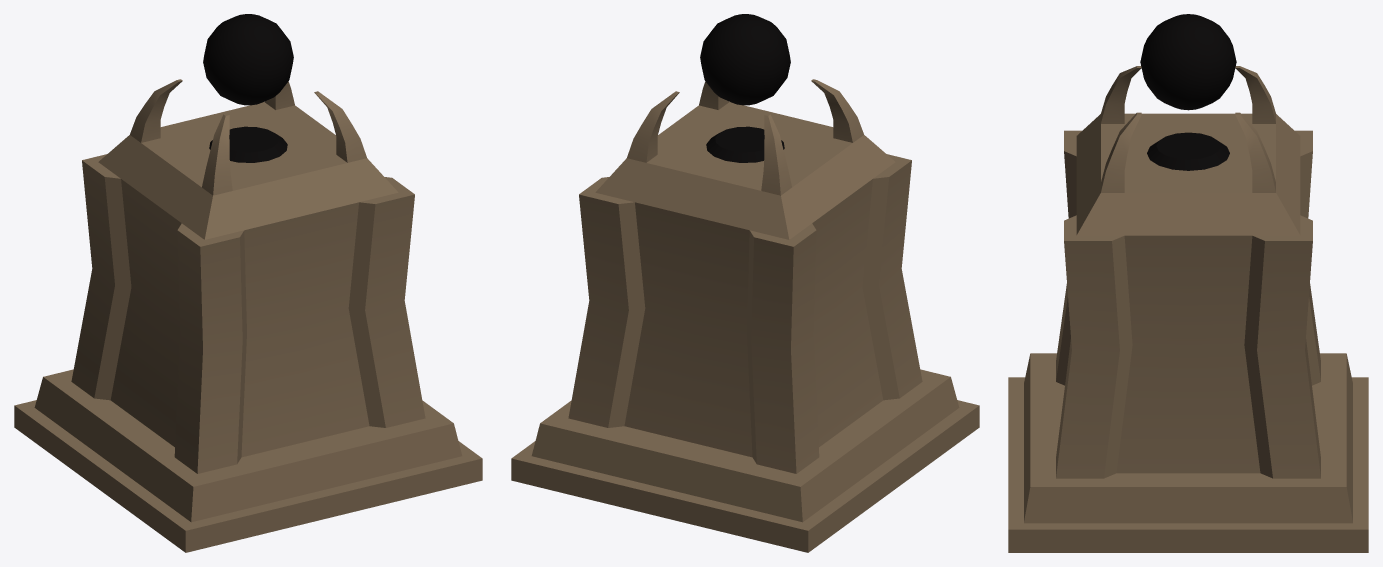
File: energy_source.FBX
3 renders of one model, left to right at view 1: azimuth 30°, elevation 25°; view 2: azimuth 150°, elevation 25°; view 3: azimuth 270°, elevation 25°, orthographic. The views are drawn at different scales.
Parts seen in each view (by area): view 1: energy_source_pedestal, energy_source_base, energy_source_sphere, energy_source_prongs, energy_source_plate; view 2: energy_source_pedestal, energy_source_base, energy_source_sphere, energy_source_prongs, energy_source_plate; view 3: energy_source_pedestal, energy_source_base, energy_source_sphere, energy_source_prongs, energy_source_plate.
Boxes of the visible parts, x1,y1,x2,y2 form: energy_source_pedestal: (71,102,425,473); energy_source_base: (14,369,482,552); energy_source_sphere: (203,14,293,105); energy_source_prongs: (130,79,366,195); energy_source_plate: (209,126,287,162); energy_source_pedestal: (568,102,922,473); energy_source_base: (511,369,979,552); energy_source_sphere: (700,14,790,105); energy_source_prongs: (627,79,863,195); energy_source_plate: (706,126,784,162); energy_source_pedestal: (1056,113,1320,478); energy_source_base: (1008,353,1368,552); energy_source_sphere: (1140,14,1236,110); energy_source_prongs: (1101,66,1275,192); energy_source_plate: (1147,132,1229,170).
Bounding box in the file's own units: 89.8 × 126 × 89.8.
